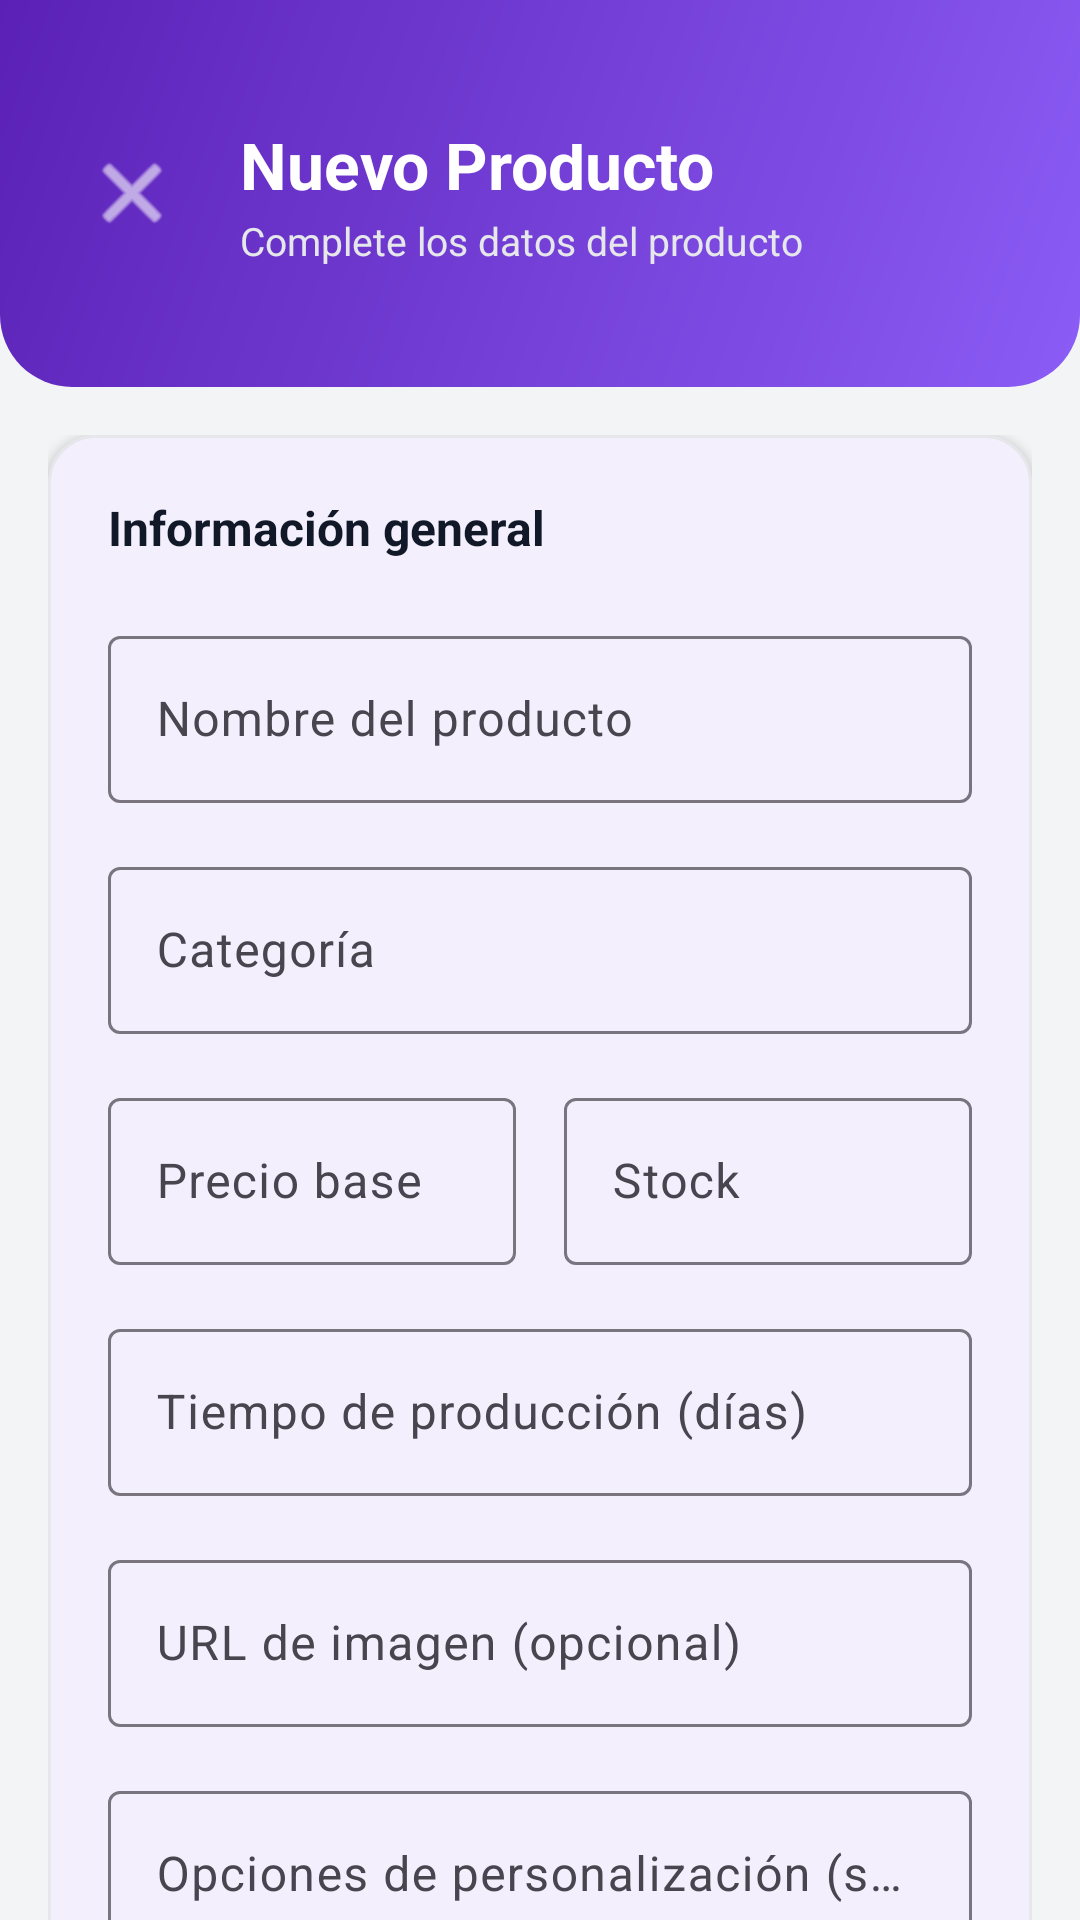

Where icons sit on this 1080w x 1920h app screen, as (x1, y1, x2, y2):
Volver: (102, 163, 162, 223)
